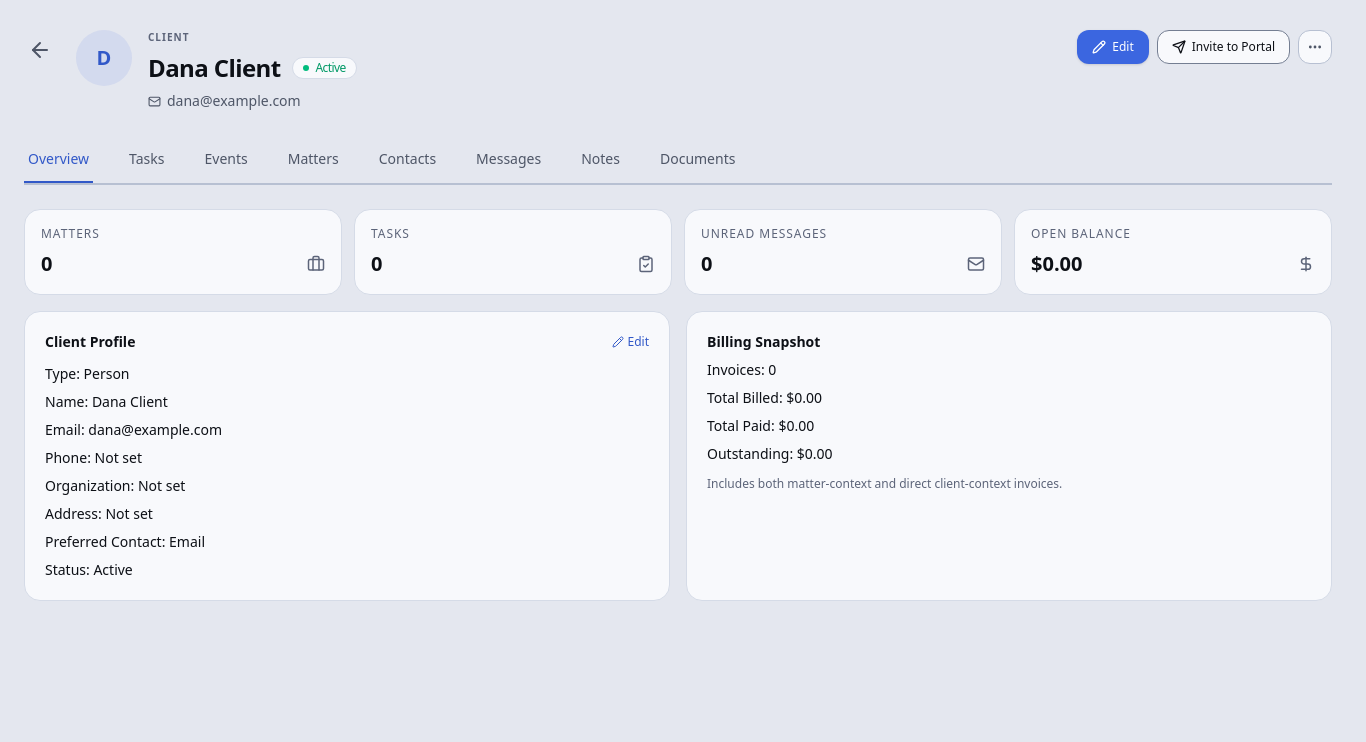
Test case: notes on a client › offers the time controls once the member can also manage time entries
Expected: the heading "Dana Client Active" is shown, top-left (148, 51), bottom-right (357, 84)
Click the button "Notes" at (601, 160), box top-left (577, 137), bottom-right (624, 183)
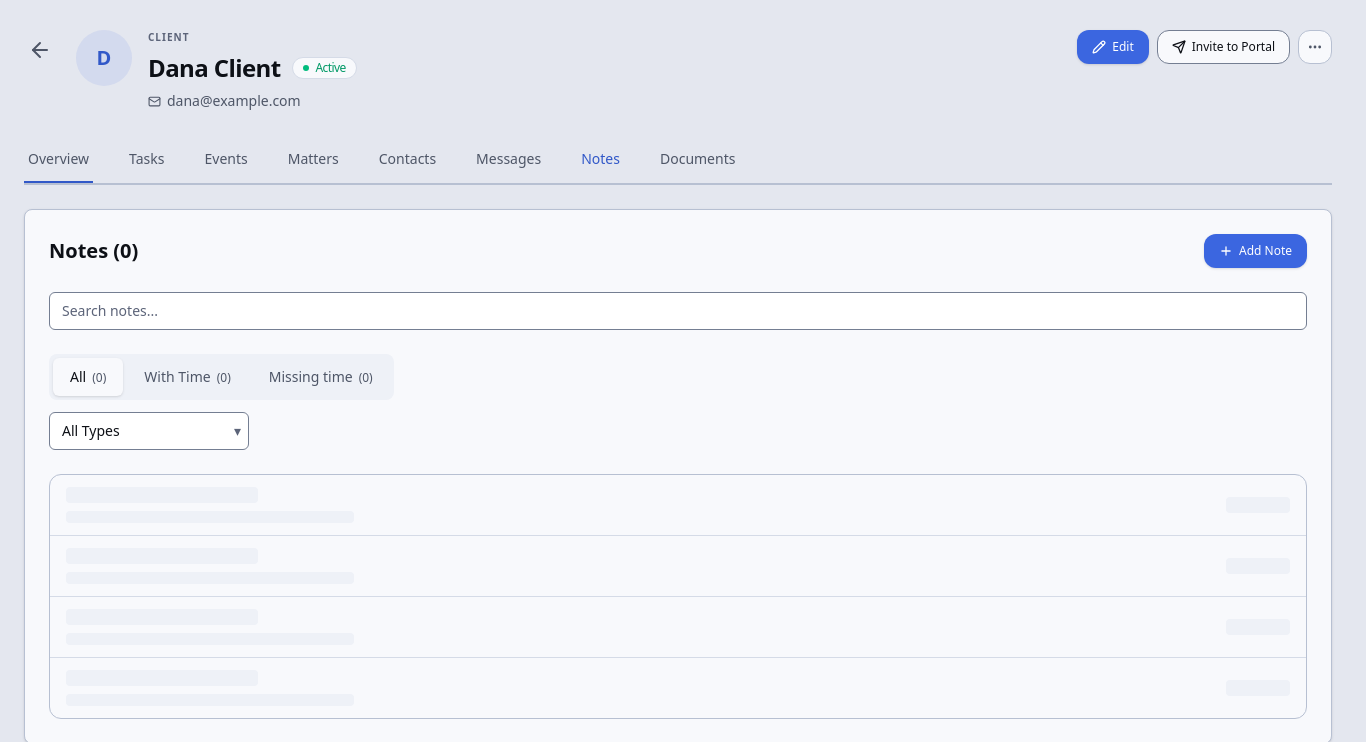
Click the button "Add Note" at (1256, 251), box top-left (1204, 234), bottom-right (1307, 268)
(page scrolled)
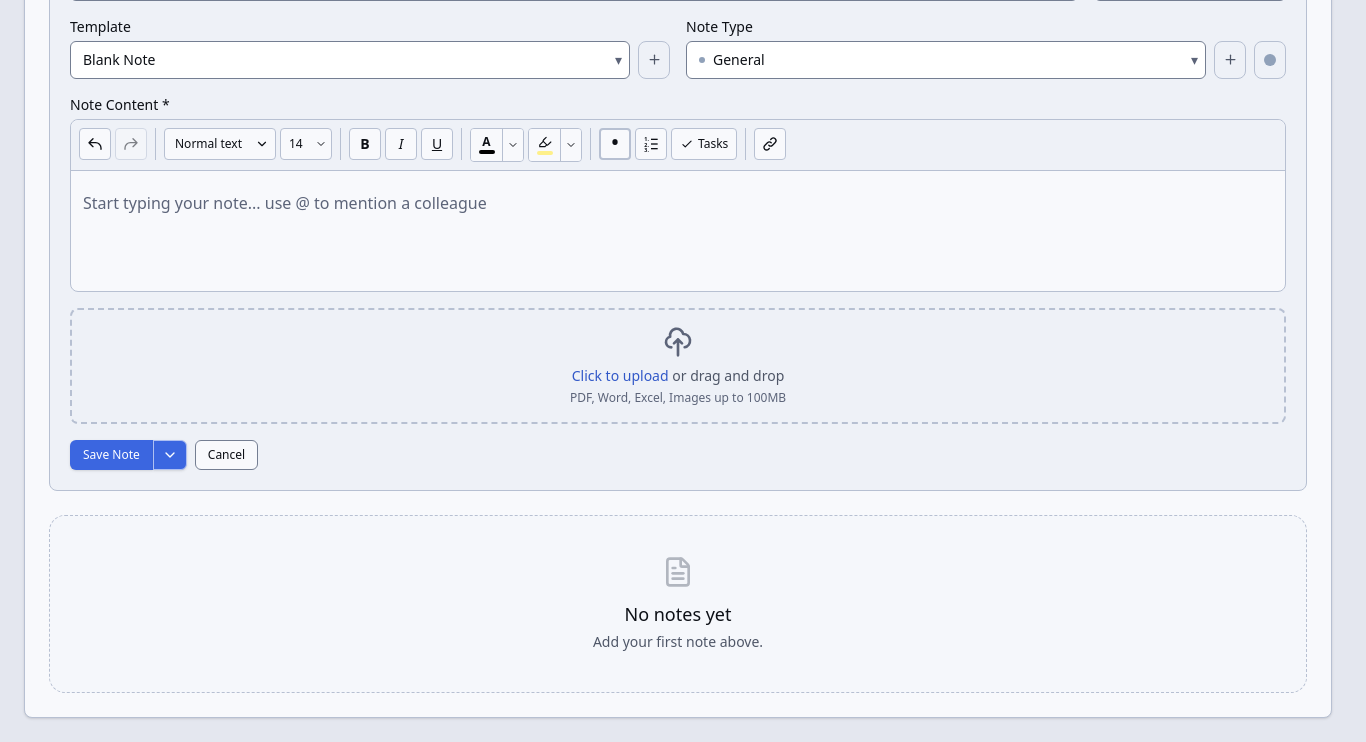
Expected: the button "Save Note" is shown, top-left (70, 440), bottom-right (153, 470)
Expected: the button named "More save options" is shown, top-left (153, 440), bottom-right (187, 470)
